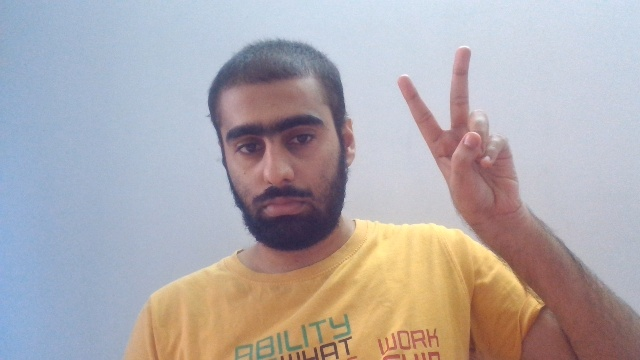scissors: (396, 44, 520, 226)
